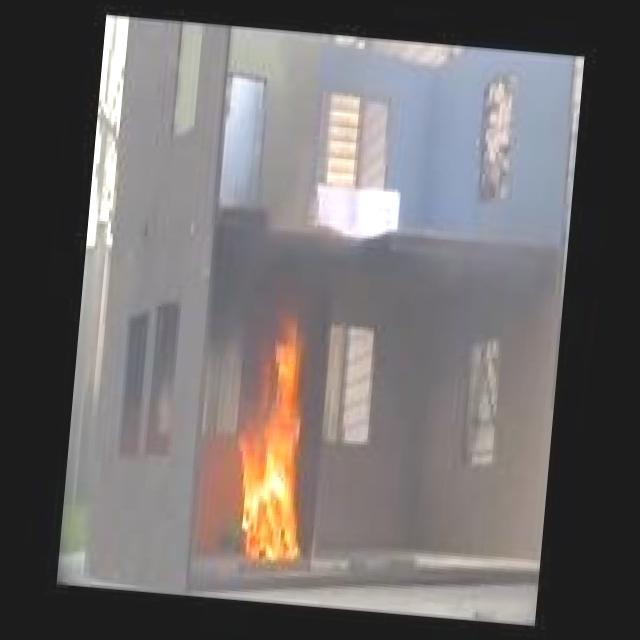fire: (207, 299, 330, 570)
